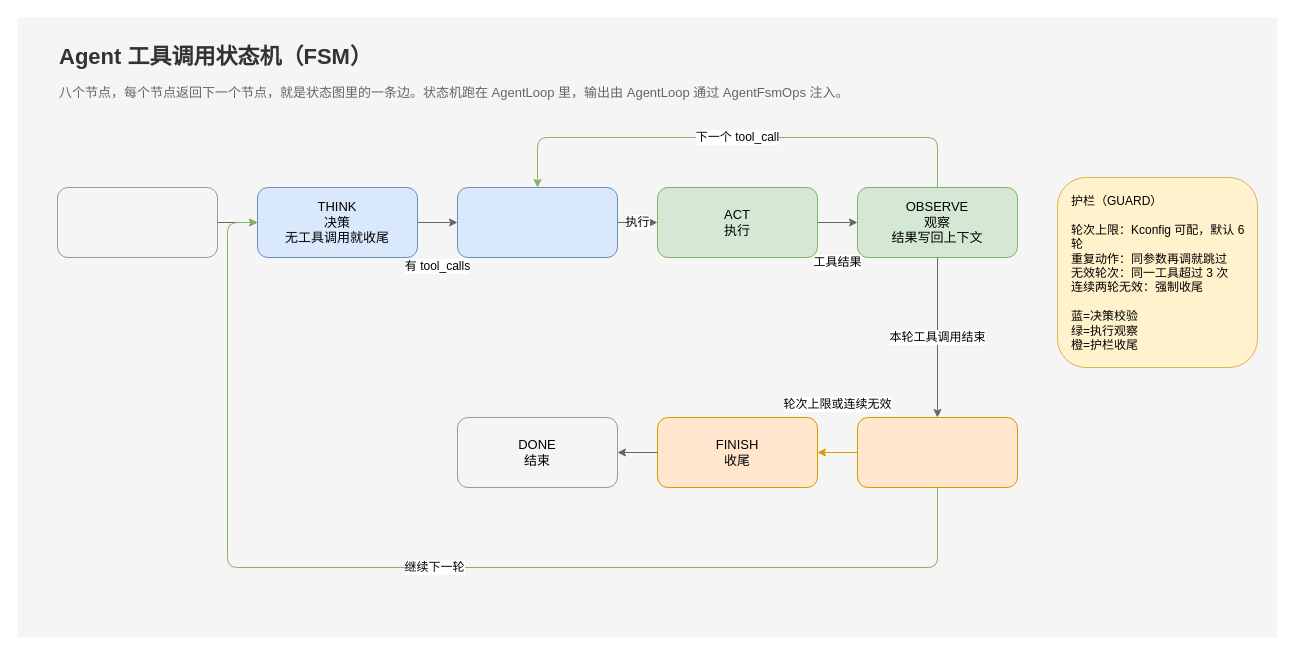
Image size: 1294x654. Some labels were removed from this diagram. Each missing label, with the centre of its shape:
"GUARD 护栏" goes at pixel 937 452.
"INIT 初始化" goes at pixel 137 222.
"VALIDATE 校验 非法或重复就跳过" goes at pixel 537 222.
